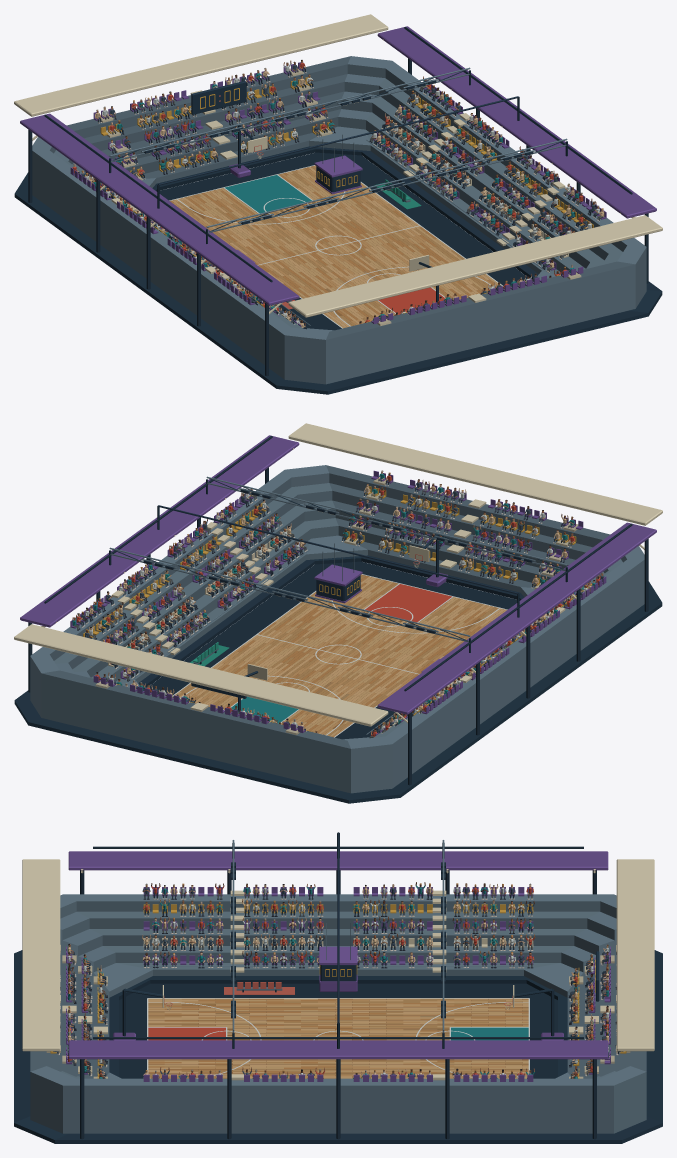
The model's file is arena.glb.
3 views of the same model, one above another, from view 1: azimuth 30°, elevation 25°; view 2: azimuth 150°, elevation 25°; view 3: azimuth 270°, elevation 25° (orthographic). The views are drawn at different scales.
Visible parts, largest first — view 1: arena_shell, roof, court_surface, seated_crowd, individual_seats, court_runoff, lighting_trusses, stand_stairs, painted_keys, hanging_scoreboard, beams, court_markings (+3 smaller); view 2: arena_shell, roof, court_surface, seated_crowd, individual_seats, court_runoff, lighting_trusses, stand_stairs, painted_keys, hanging_scoreboard, beams, court_markings (+1 smaller); view 3: arena_shell, roof, court_surface, seated_crowd, individual_seats, court_runoff, lighting_trusses, stand_stairs, beams, hanging_scoreboard, painted_keys, court_markings (+4 smaller).
Boxes of the visible parts, x1,y1,x2,y2 form: arena_shell: [14, 56, 662, 394]; roof: [14, 14, 662, 317]; court_surface: [170, 165, 501, 328]; seated_crowd: [72, 60, 604, 329]; individual_seats: [70, 62, 606, 326]; court_runoff: [159, 152, 527, 330]; lighting_trusses: [44, 27, 632, 282]; stand_stairs: [99, 68, 581, 325]; painted_keys: [225, 175, 445, 314]; hanging_scoreboard: [157, 96, 519, 208]; beams: [28, 39, 648, 376]; court_markings: [169, 165, 503, 328]; arena_shell: [14, 465, 662, 803]; roof: [14, 423, 662, 726]; court_surface: [175, 574, 506, 737]; seated_crowd: [72, 470, 604, 738]; individual_seats: [70, 470, 606, 735]; court_runoff: [146, 561, 517, 739]; lighting_trusses: [44, 436, 632, 691]; stand_stairs: [95, 476, 578, 734]; painted_keys: [231, 584, 451, 723]; hanging_scoreboard: [157, 505, 519, 617]; beams: [28, 448, 648, 785]; court_markings: [172, 574, 507, 737]; arena_shell: [14, 894, 662, 1143]; roof: [22, 851, 654, 1059]; court_surface: [148, 998, 528, 1078]; seated_crowd: [53, 882, 623, 1079]; individual_seats: [50, 887, 626, 1081]; court_runoff: [119, 983, 557, 1078]; lighting_trusses: [93, 840, 583, 1048]; stand_stairs: [46, 890, 630, 1080]; beams: [80, 869, 596, 1139]; hanging_scoreboard: [319, 832, 357, 1048]; painted_keys: [148, 1027, 528, 1040]; court_markings: [147, 998, 529, 1078].
Size of the model in its own units: 35.6 by 9.39 by 47.6.
